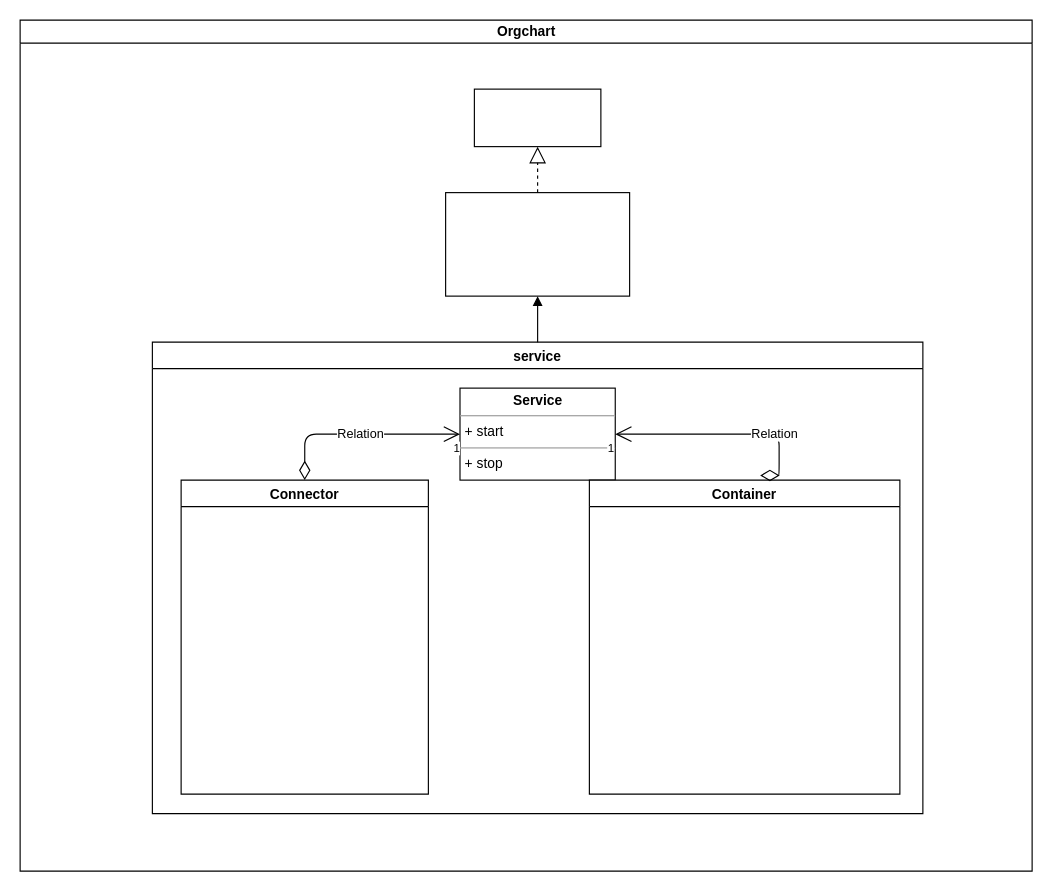
This 1052x891 diagram has some shape labels left out. The shapes that lost their labels are listed below. From the top down, each one's centre as x and y in pixels, then its label:
point 537,117: Lifecycle
point 537,243: Server + start + stop
